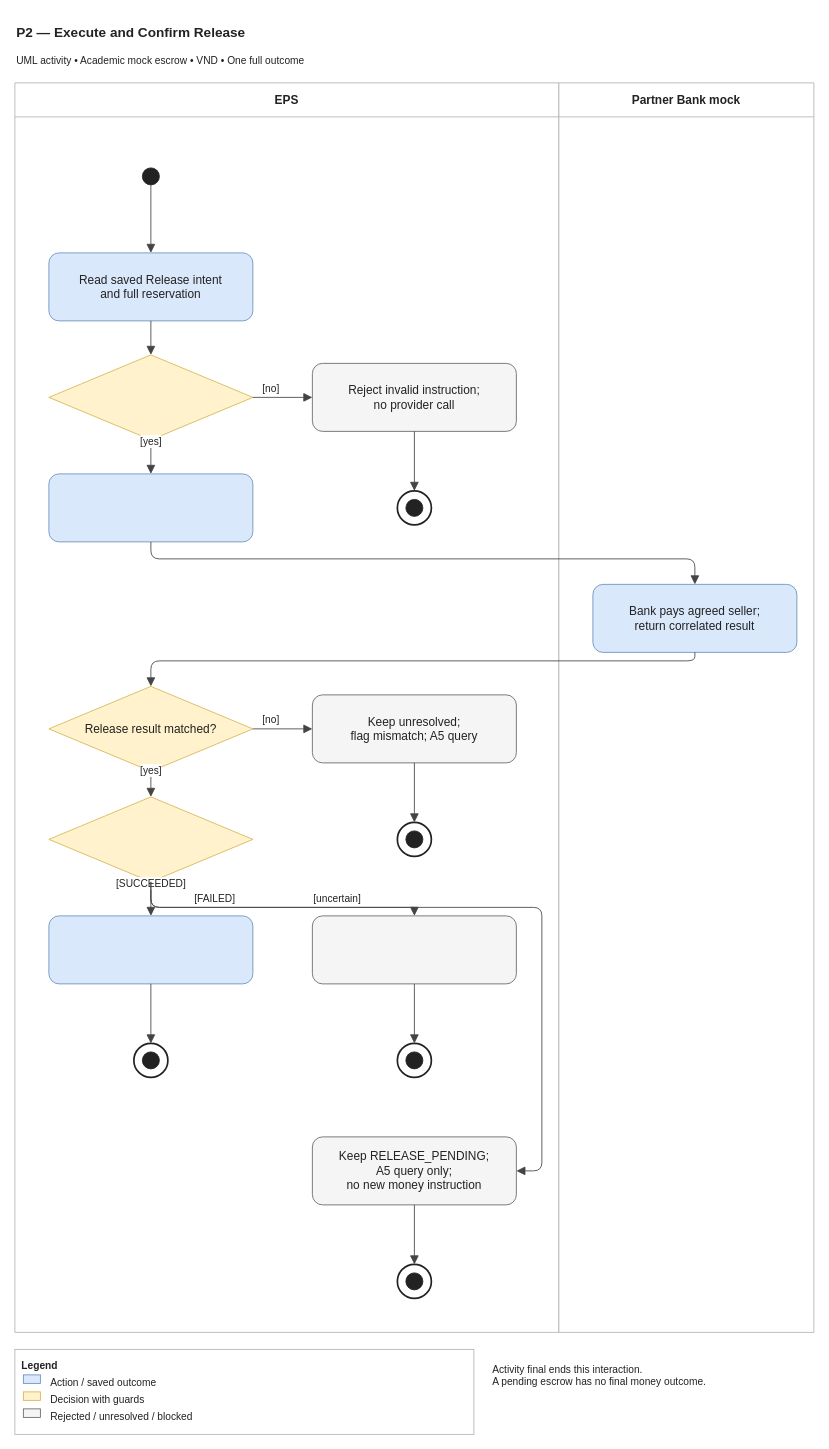
Image size: 829x1449. Some labels were removed from this diagram. Each missing label, with the centre of its shape:
Authoritative release result?: the point at 150,839
Commit RELEASED once; consume reservation; audit: the point at 150,949
FAILED: no money moved; keep RELEASE_PENDING lock: the point at 414,949
Release execution eligible?: the point at 150,397
Send full-VND Release; keep RELEASE_PENDING: the point at 150,507
